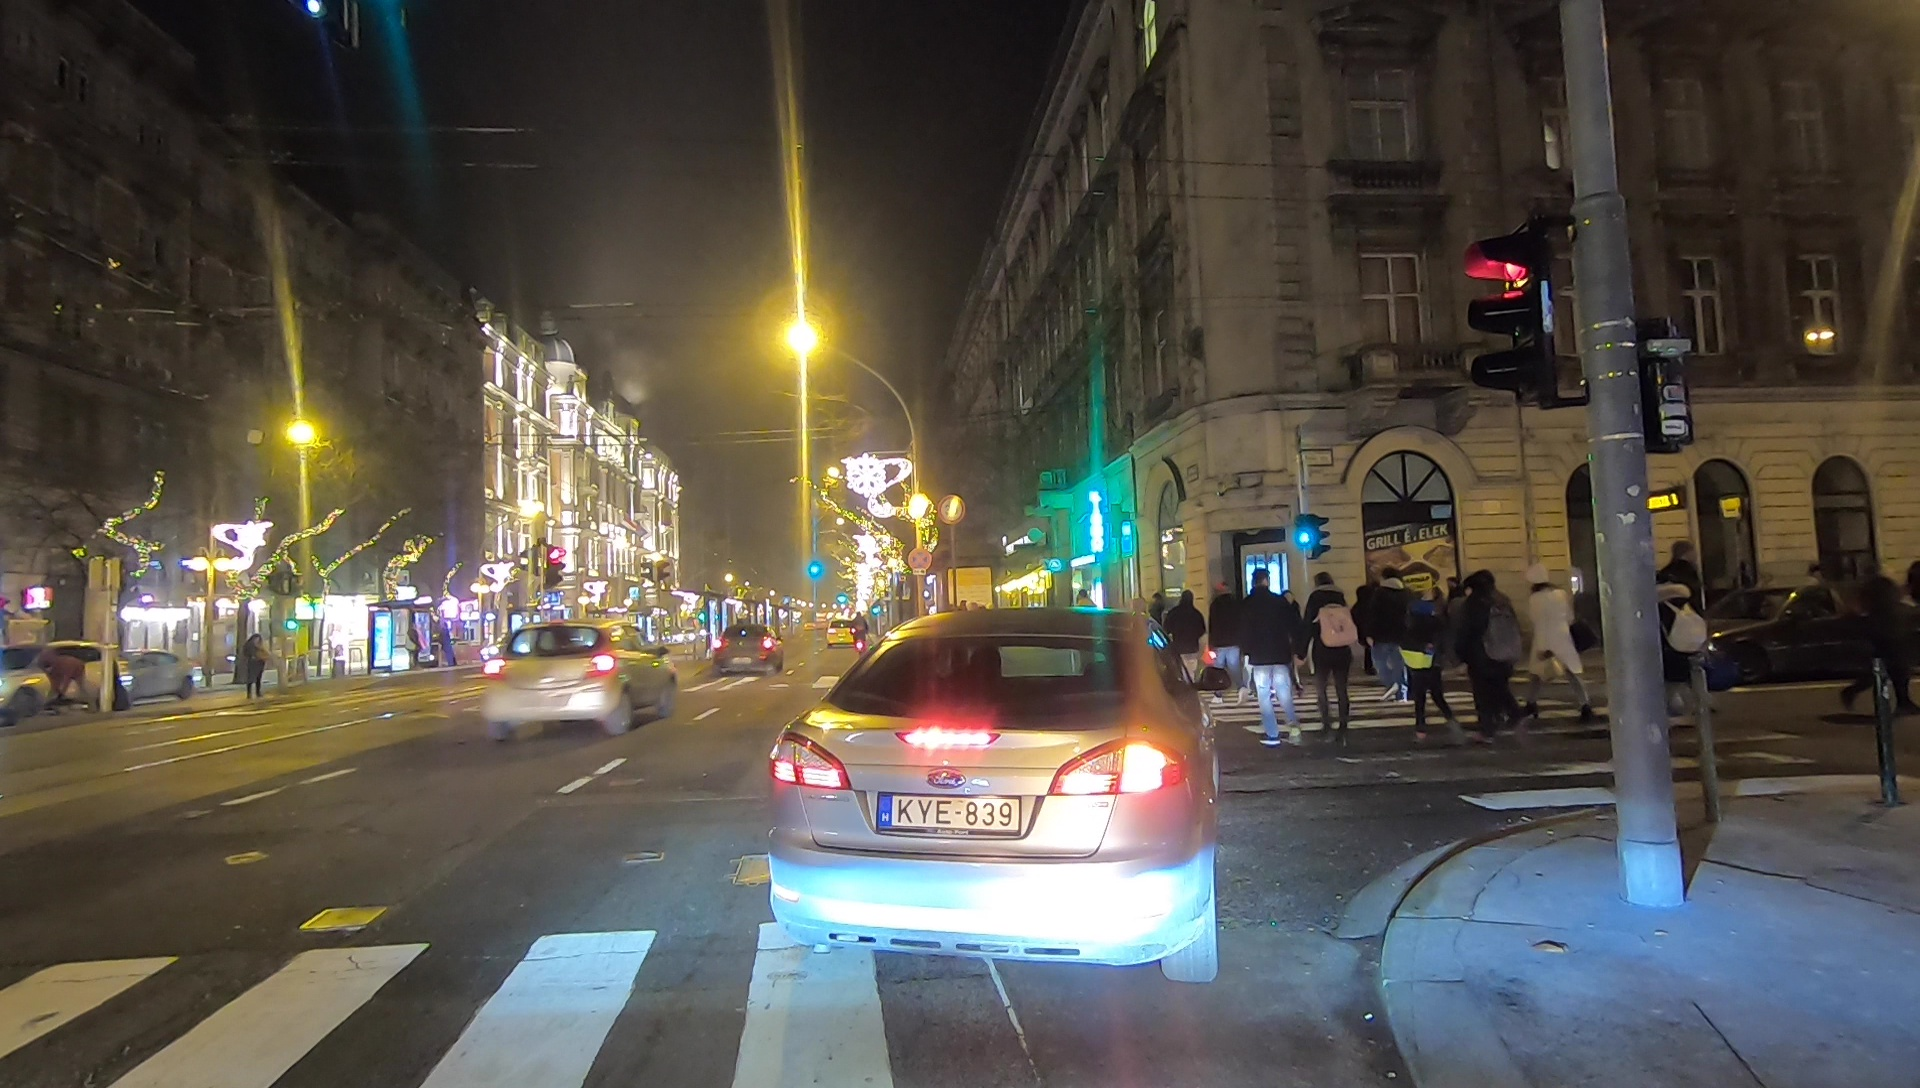person: (1237, 569, 1308, 745), (1525, 567, 1602, 722), (1303, 571, 1363, 742), (1850, 568, 1914, 722), (1460, 576, 1517, 744), (1667, 541, 1714, 707), (1406, 596, 1460, 740), (1364, 572, 1421, 696), (1208, 586, 1245, 687), (1167, 590, 1207, 682)
